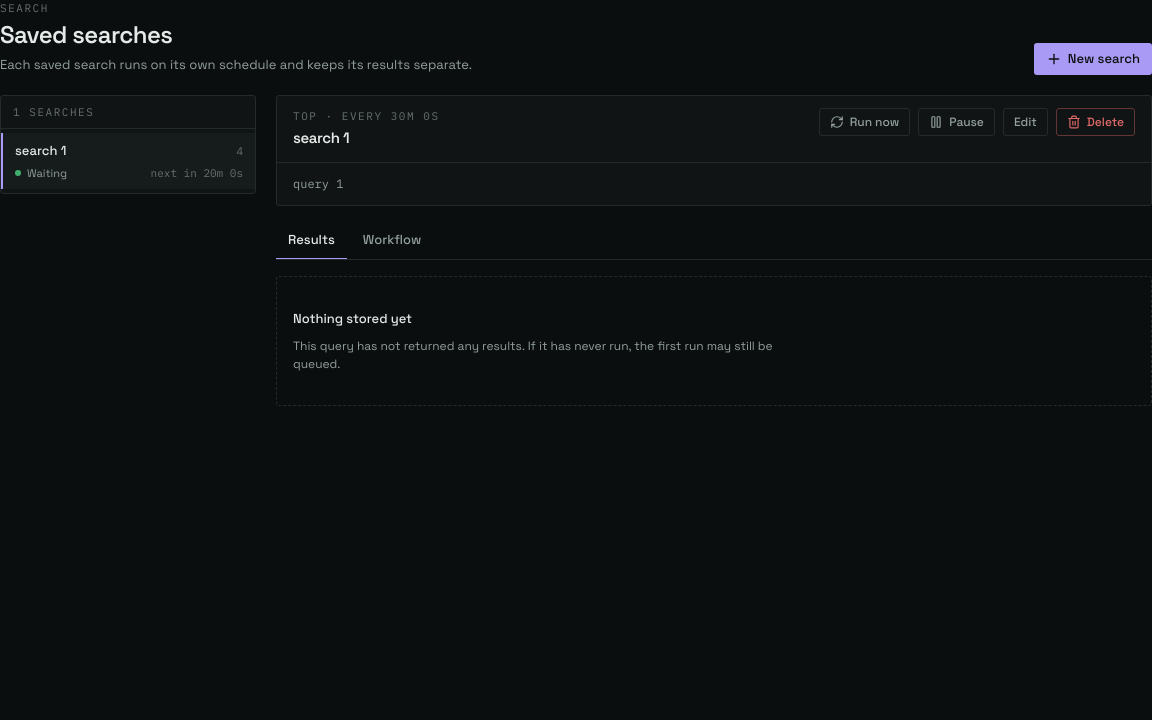
Test: the workflow tab › surfaces a failure ledger entry rather than a bare status
Click the tab "Workflow" at (392, 241), box [351,222,433,260]
(page scrolled)
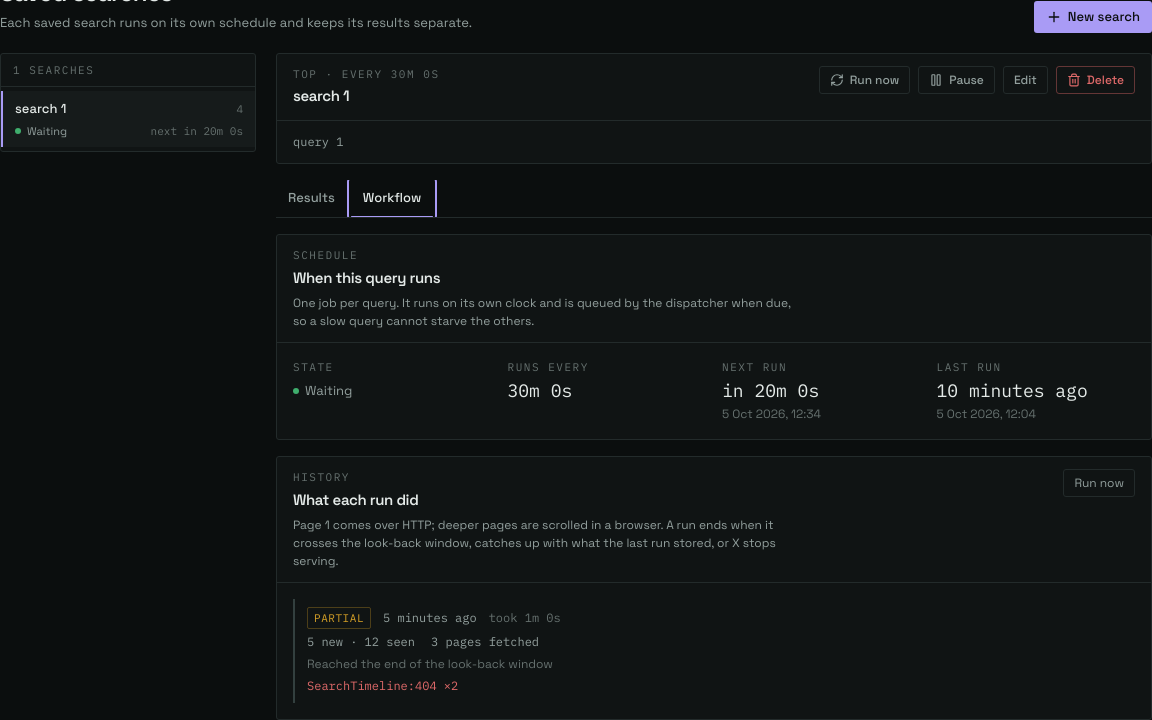
Expected: the text "SearchTimeline:404 ×2" is shown, [307,678,458,692]
